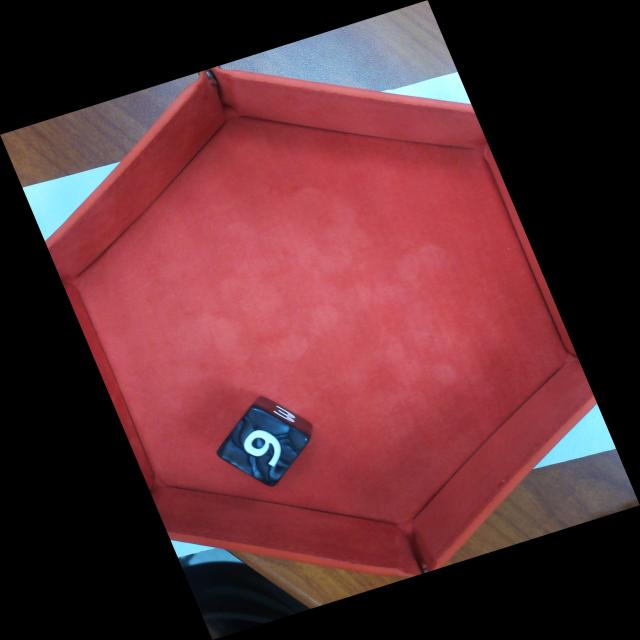dice: (216, 406, 311, 487)
